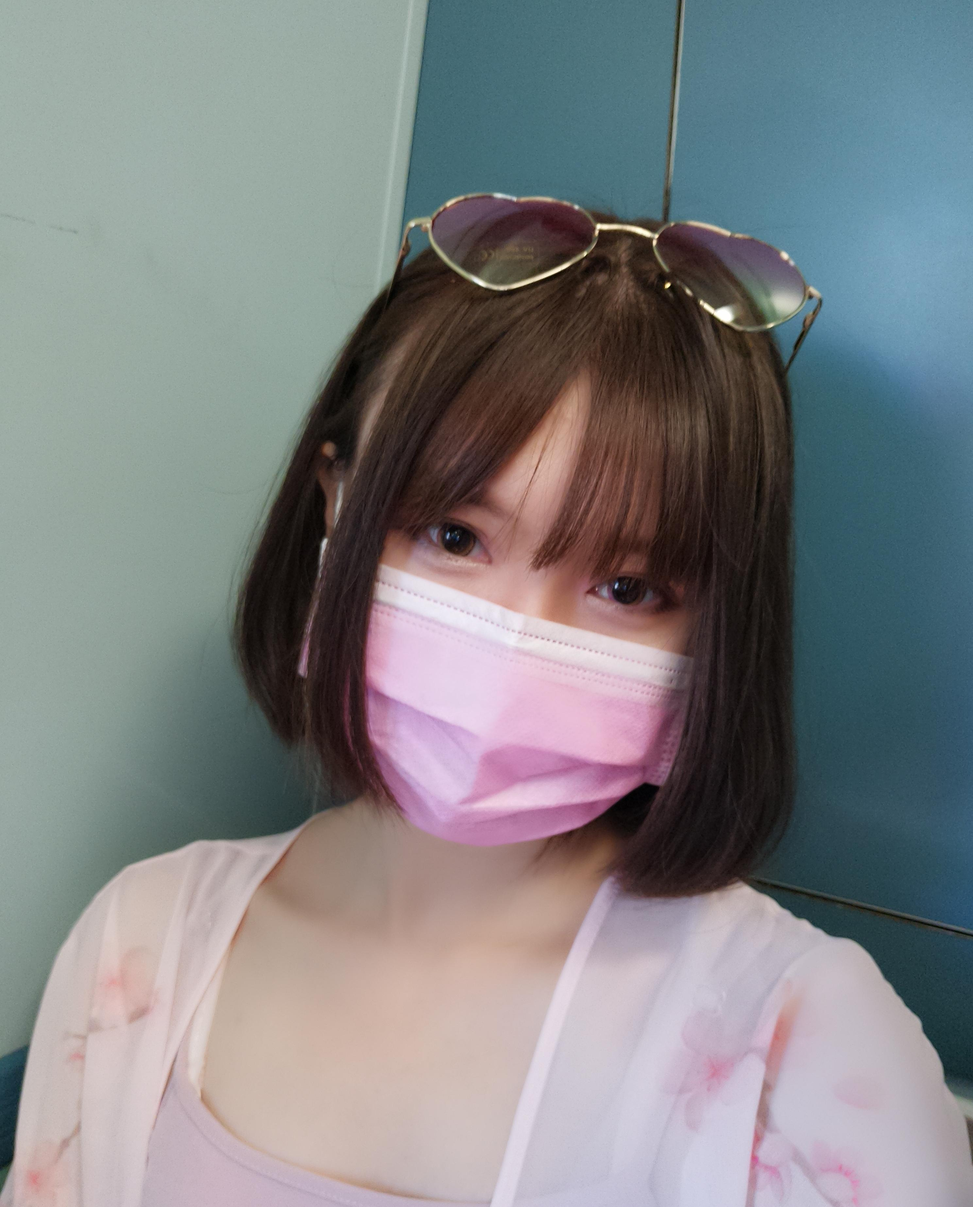OK: (330, 453, 724, 848)
